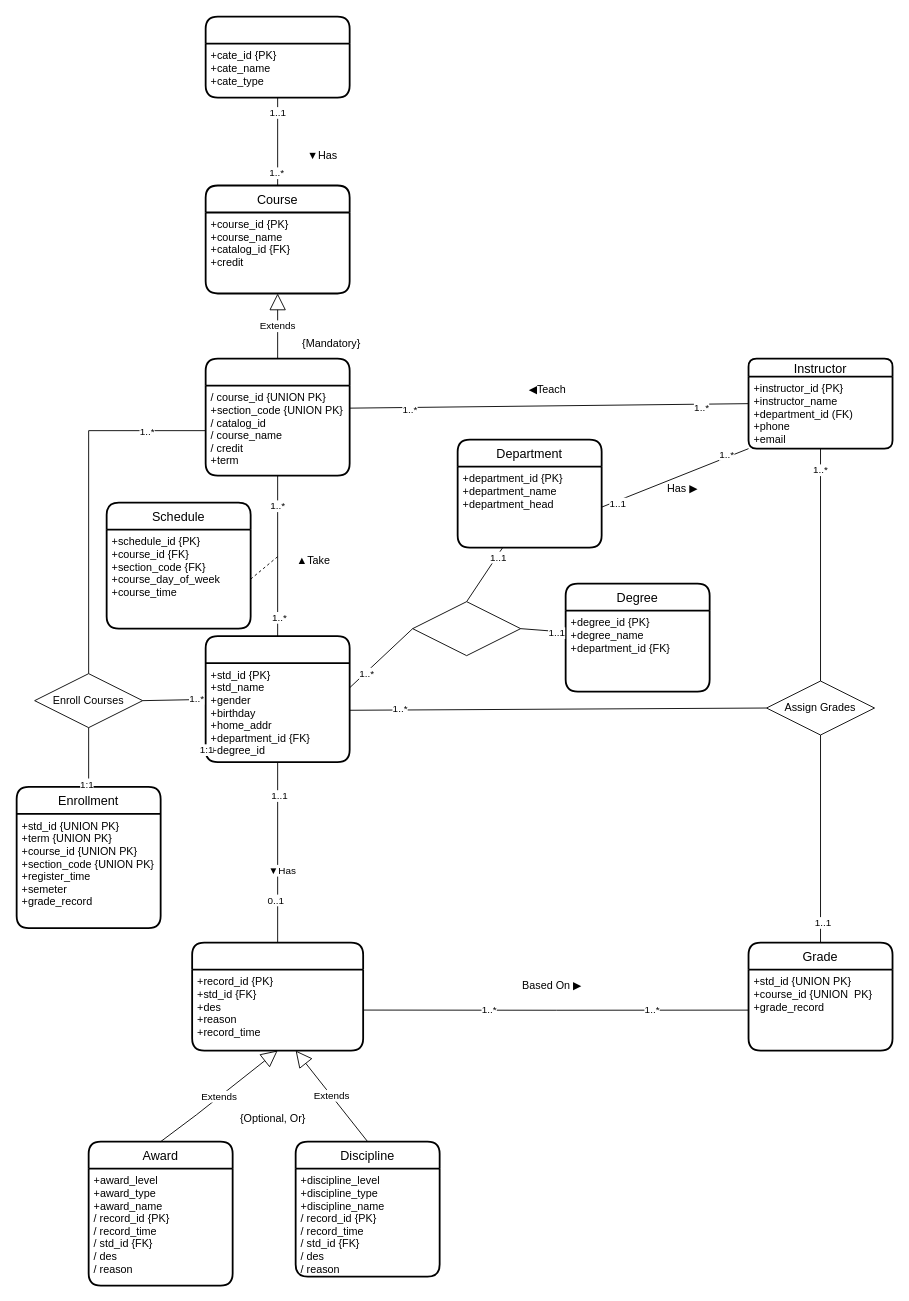
The diagram is 909 pixels wide and 1301 high, and some of its shapes have lost their labels. Each missing label, with the box of its shape:
Course_Catalog: (204, 15, 350, 98)
Course_Section: (204, 357, 350, 476)
Evaluation_Record: (191, 941, 364, 1051)
Pursue A Degree: (412, 601, 521, 656)
Student: (204, 635, 350, 762)
